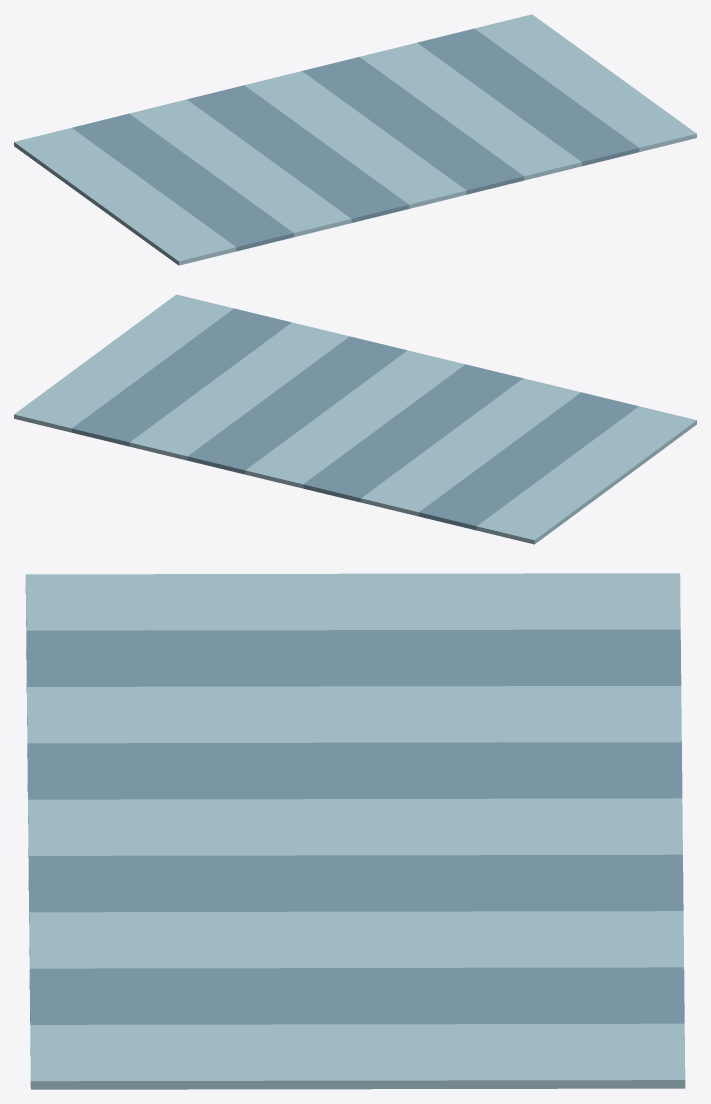
The model's file is Carpet_8.fbx.
The picture shows the model from 3 angles, top to bottom: view 1: azimuth 30°, elevation 25°; view 2: azimuth 150°, elevation 25°; view 3: azimuth 270°, elevation 25°; orthographic projection. The views are drawn at different scales.
Parts seen in each view (by area): view 1: Carpet_8; view 2: Carpet_8; view 3: Carpet_8.
Boxes of the visible parts, <box> form: Carpet_8: <box>14,14,696,265</box>; Carpet_8: <box>14,294,696,544</box>; Carpet_8: <box>25,573,685,1089</box>.
Size of the model in its own units: 265 by 145 by 2.07.
